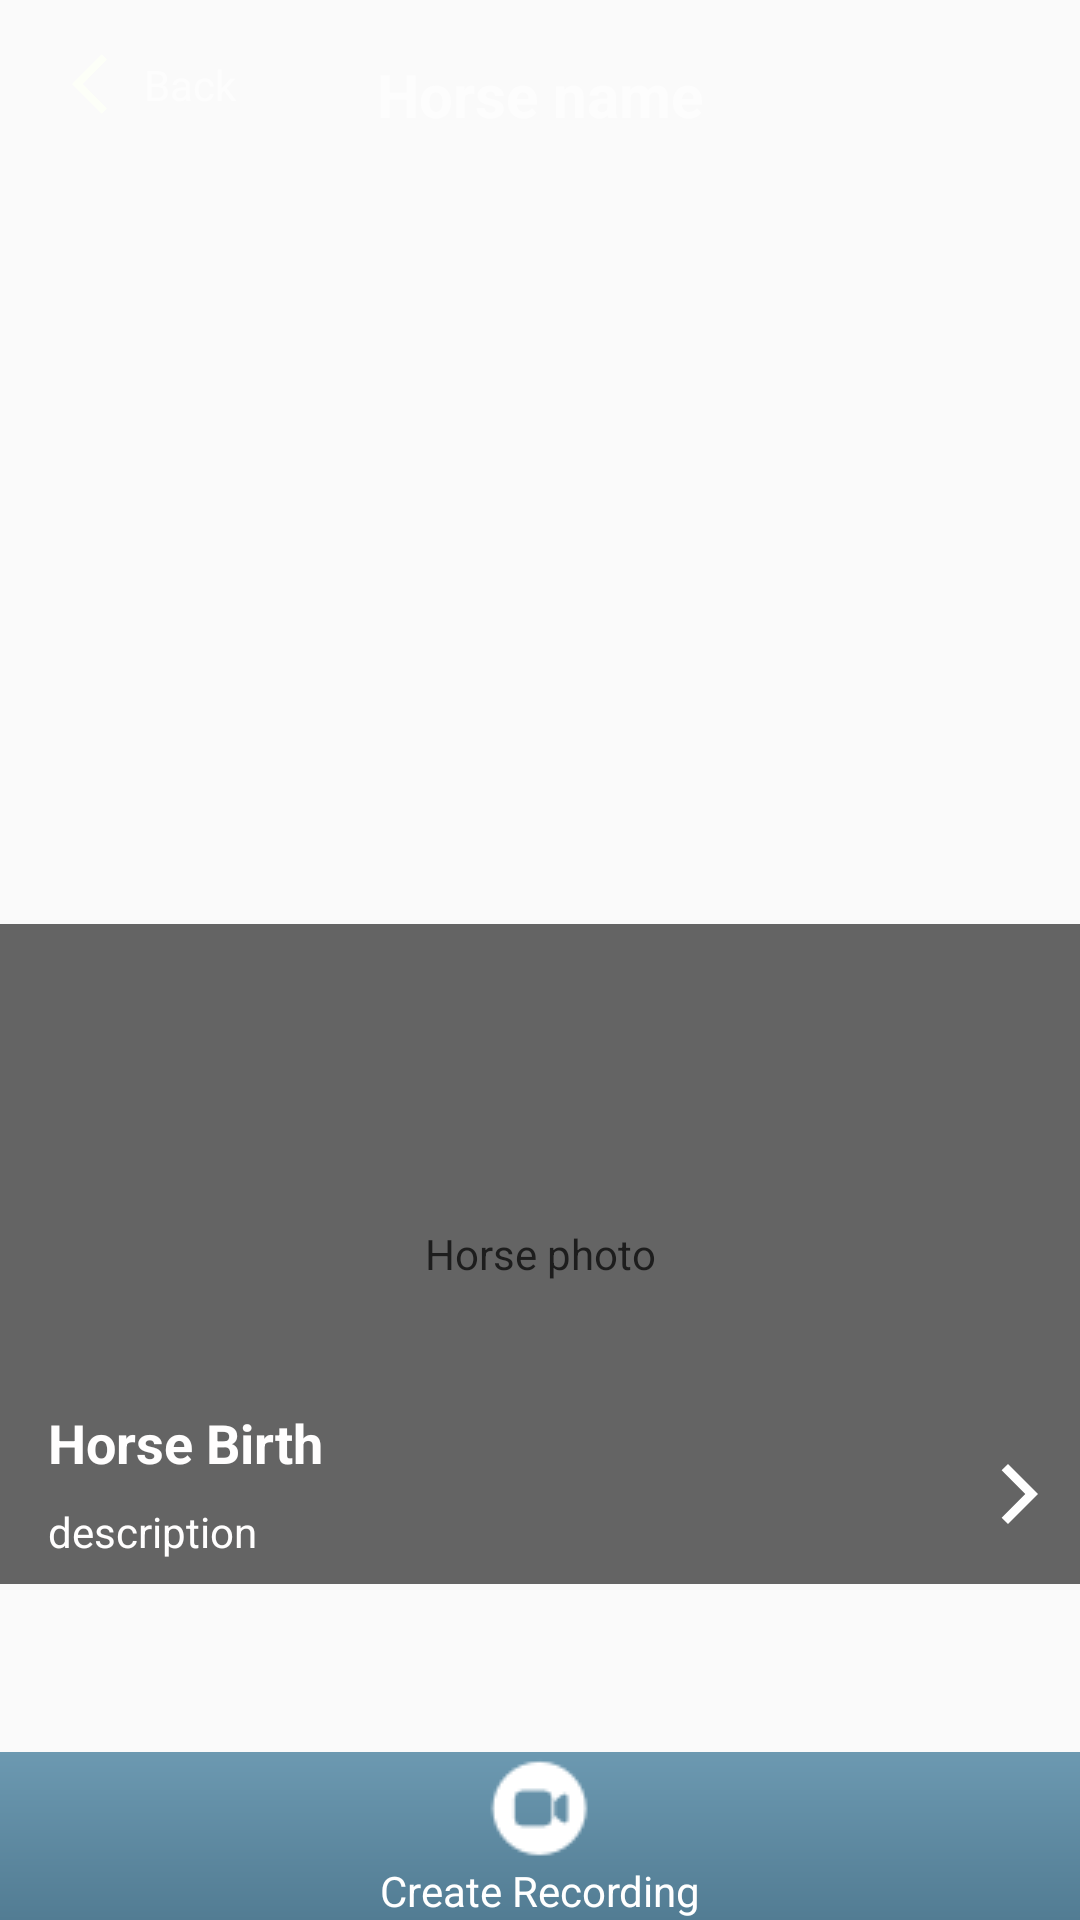

Where icons sit on this 1080*1920 app screen, as [left=x1, top=y1, right=x2, bottom=y2]:
arrow forward: [left=1002, top=1464, right=1038, bottom=1524]
